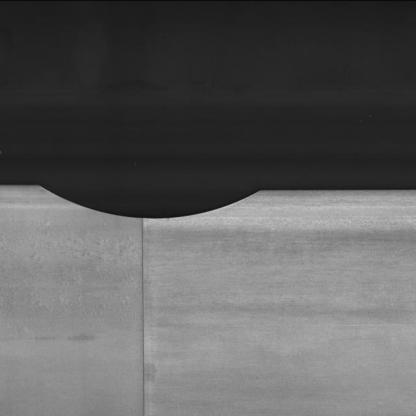welding_line: (122, 210, 155, 415)
